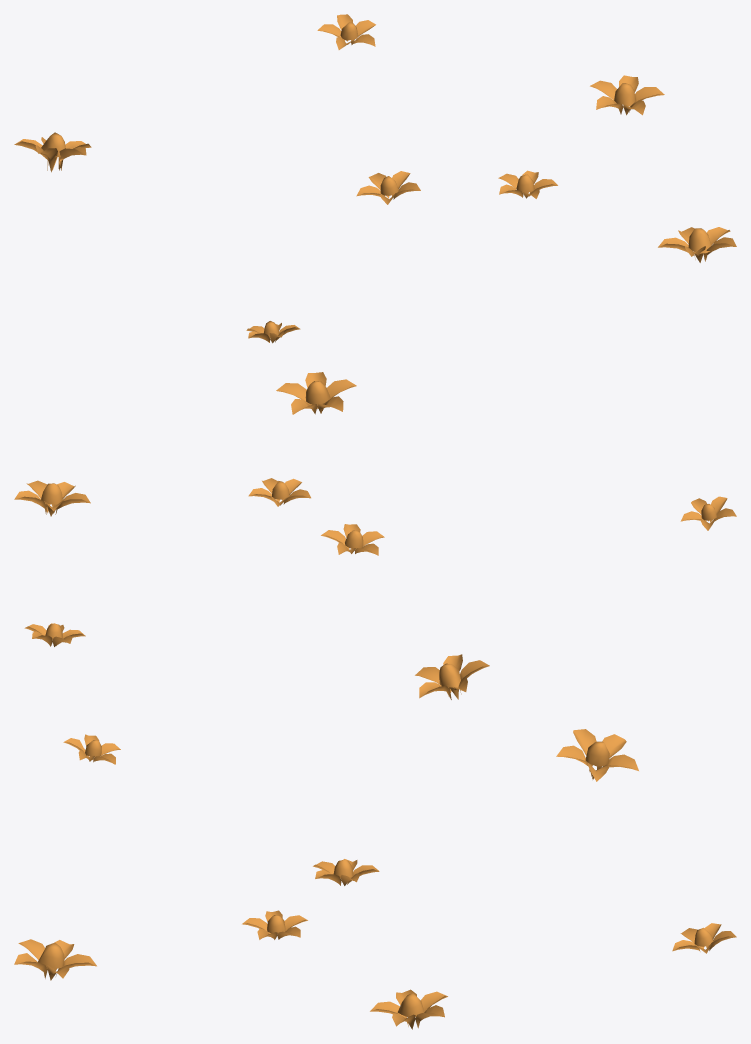
Rendered from flower_sm.fbx.
3 renders of one model, top to bottom at view 1: azimuth 30°, elevation 25°; view 2: azimuth 150°, elevation 25°; view 3: azimuth 270°, elevation 25°, orthographic. The views are drawn at different scales.
Parts seen in each view (by area): view 1: Icosphere.001; view 2: Icosphere.001; view 3: Icosphere.001.
Part boxes in pixels (left/top/right/bottom): Icosphere.001: left=14, top=14, right=736, bottom=343; Icosphere.001: left=14, top=372, right=736, bottom=699; Icosphere.001: left=14, top=729, right=736, bottom=1029.
Size of the model in its own units: 246 by 14.87 by 257.
